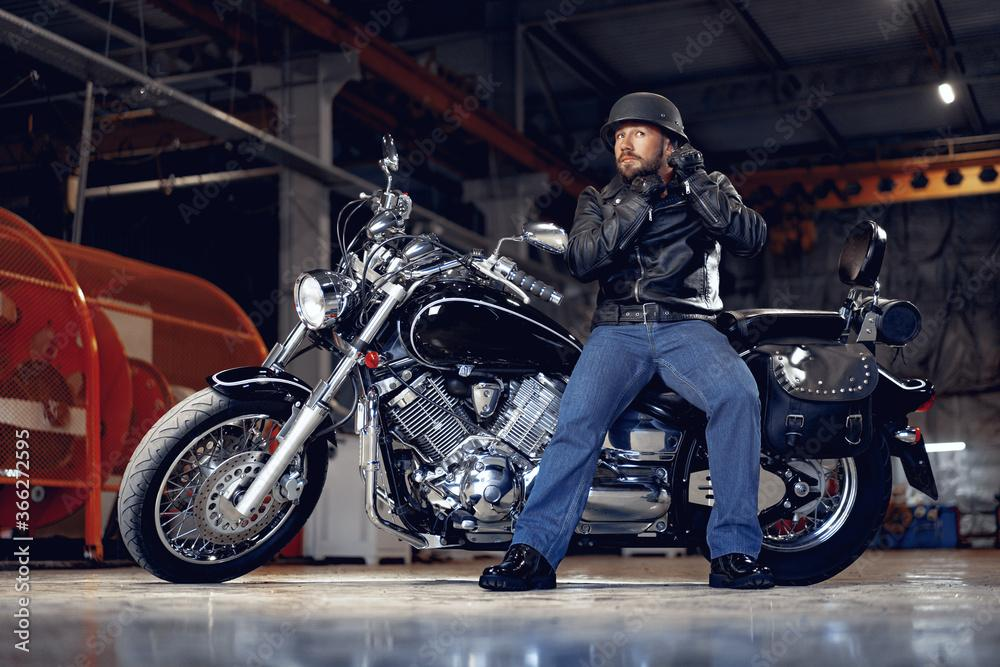helmet: (599, 91, 692, 184)
